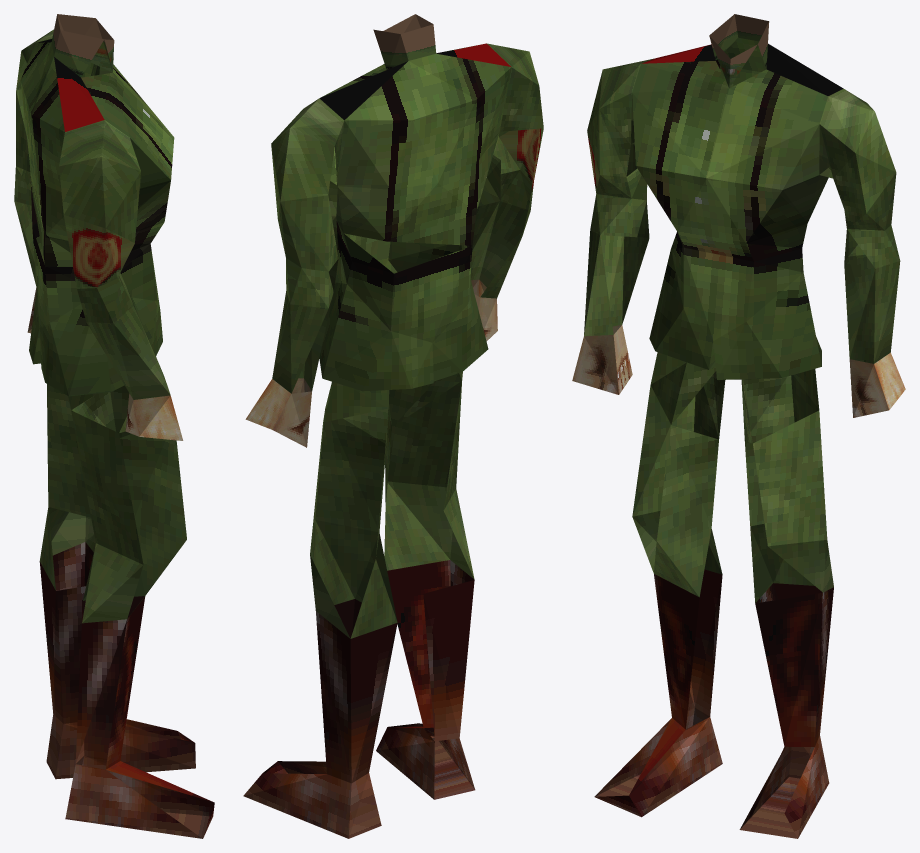
The model's file is primary_018.glb.
3 views of the same model, side by side, from view 1: azimuth 30°, elevation 25°; view 2: azimuth 150°, elevation 25°; view 3: azimuth 270°, elevation 25° (orthographic). The views are drawn at different scales.
Parts seen in each view (by area): view 1: Object; view 2: Object; view 3: Object.
Boxes of the visible parts, bbox=[...] form: Object: bbox=[14, 14, 214, 838]; Object: bbox=[243, 14, 543, 838]; Object: bbox=[572, 14, 905, 838].
Bounding box in the file's own units: 0.5116 × 1.83 × 0.7329.
Materials: 64 (64 with a texture image).
